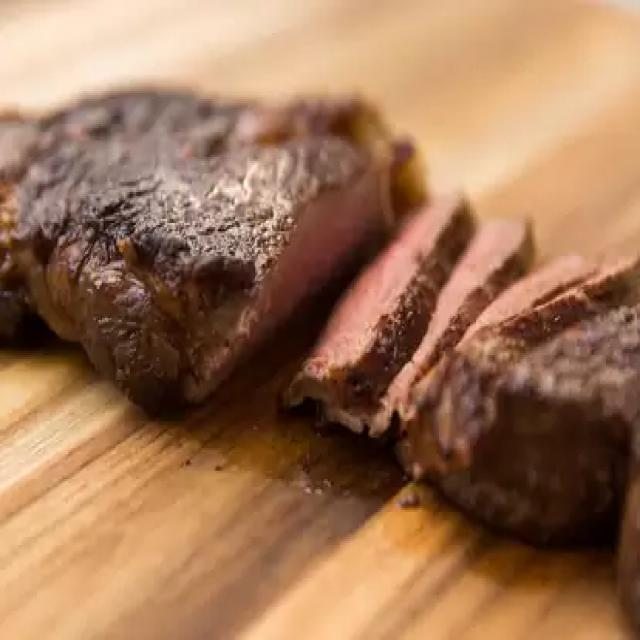Carne: (0, 78, 638, 635), (0, 80, 425, 415)
